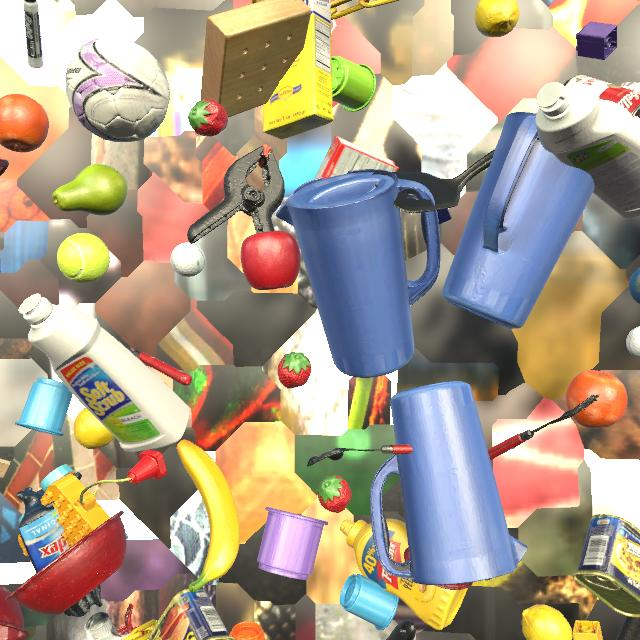ycb_004_sugar_box: (263, 0, 334, 139)
ycb_005_tomato_soup_can: (563, 75, 640, 118)
ycb_006_mustard_bottle: (340, 519, 468, 630)
ycb_009_gelatin_box: (315, 136, 399, 180)
ycb_010_potted_meat_can: (573, 514, 640, 618), (149, 588, 235, 640)
ycb_011_banana: (177, 440, 240, 593)
ycb_012_strawberry: (188, 98, 228, 137), (317, 475, 352, 513), (277, 352, 312, 389)
ycb_013_apple: (241, 231, 301, 290)
ycb_014_lemon: (522, 604, 572, 640), (74, 408, 115, 449), (475, 0, 519, 37)
ycb_016_pear: (52, 164, 127, 216)
ycb_017_orange: (566, 370, 628, 429), (0, 94, 49, 152)
